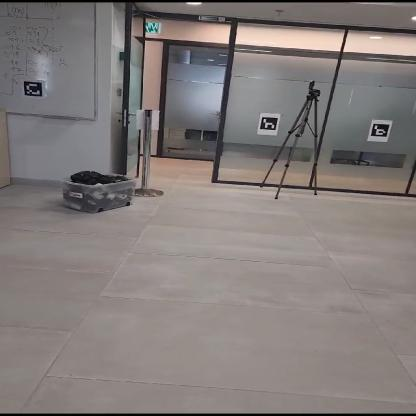open: (157, 38, 224, 188)
